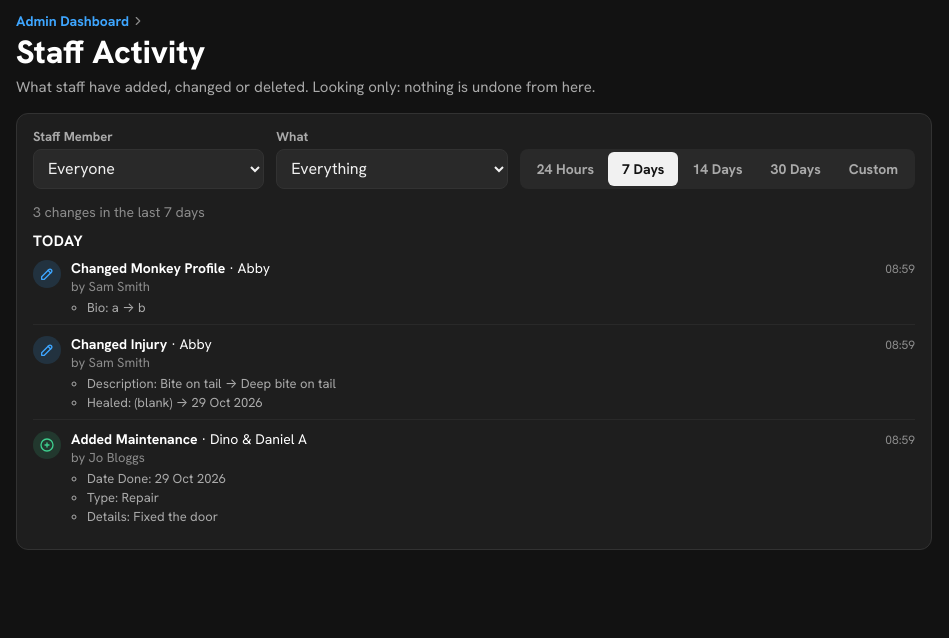
Scenario: Custom: From and To dates (the whole of each day); From after To asks again
Expected: the text "3 changes in the last 7 days" is shown, [33,203,205,221]
Click the button "Custom".
click(873, 169)  # box [835,152,912,186]
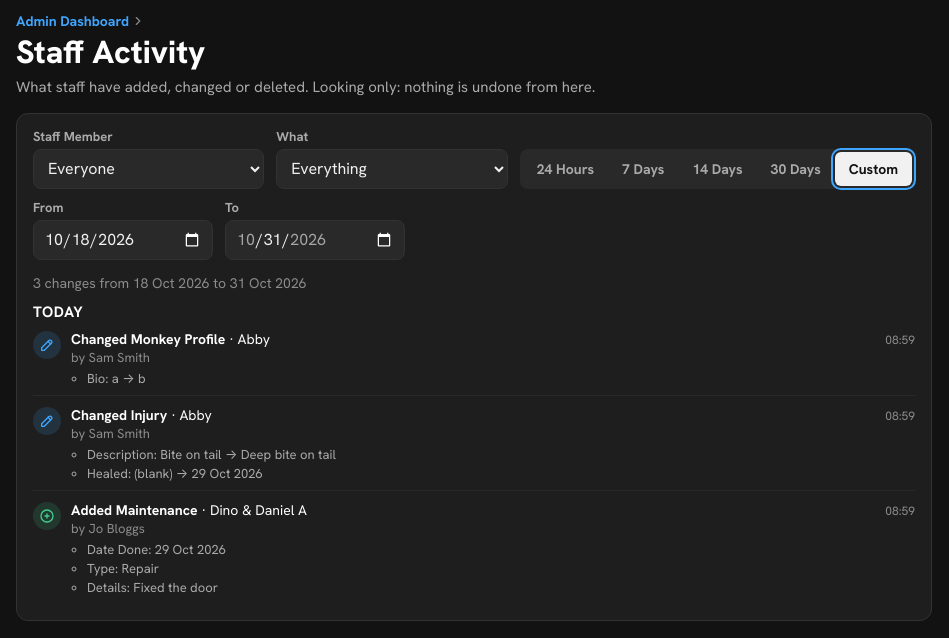
Type "2026-10-20" into the date field labelled "From".
click(123, 240); type("2026-10-20")  # box [33,220,213,260]
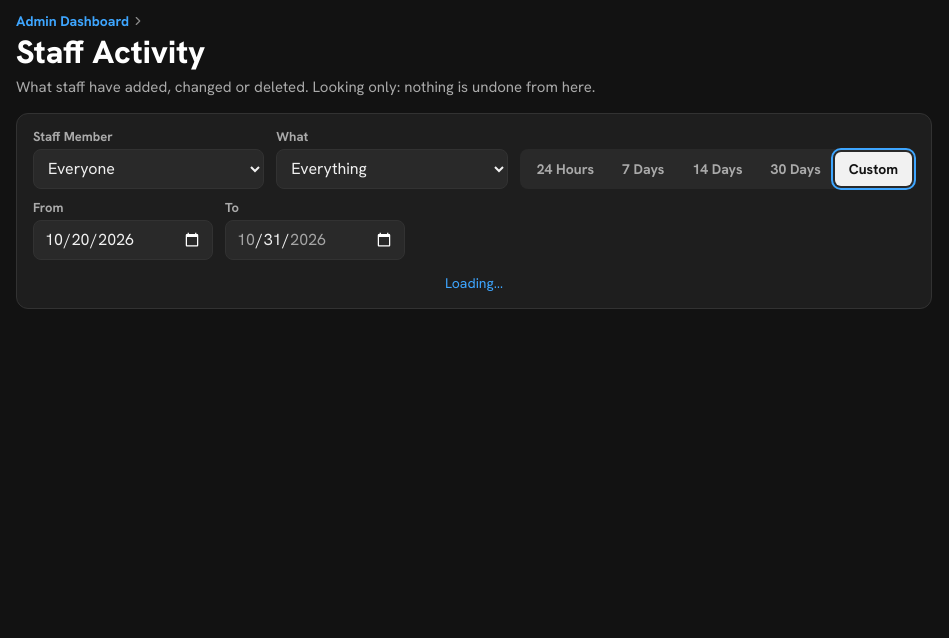
Type "2026-10-22" into the date field labelled "To".
click(315, 240); type("2026-10-22")  # box [225,220,405,260]
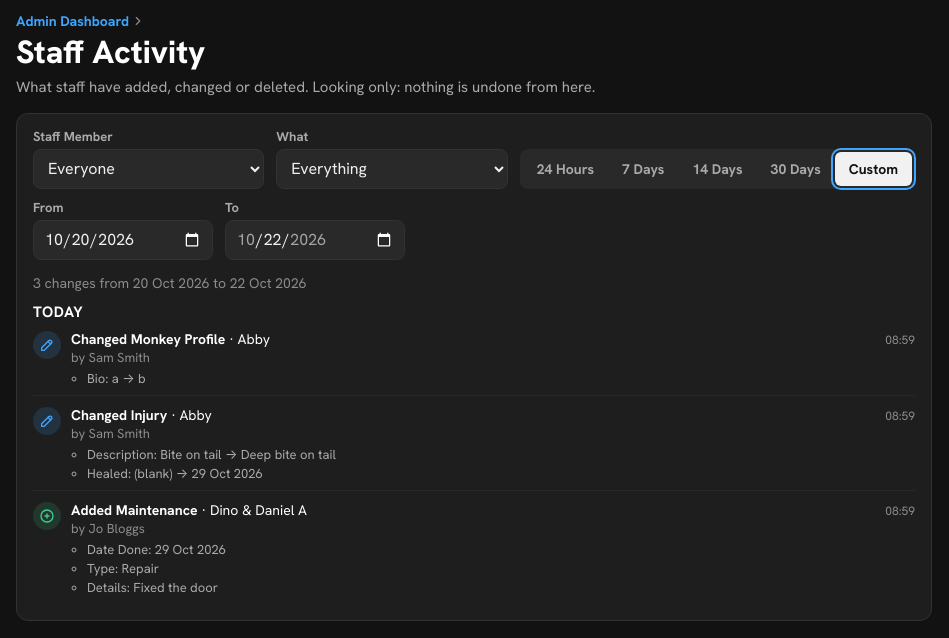
Expected: the text "3 changes from 20 Oct 2026 to 22 Oct 2026" is shown, [33,274,307,292]
Type "2026-10-20" into the date field labelled "To".
click(315, 240); type("2026-10-20")  # box [225,220,405,260]
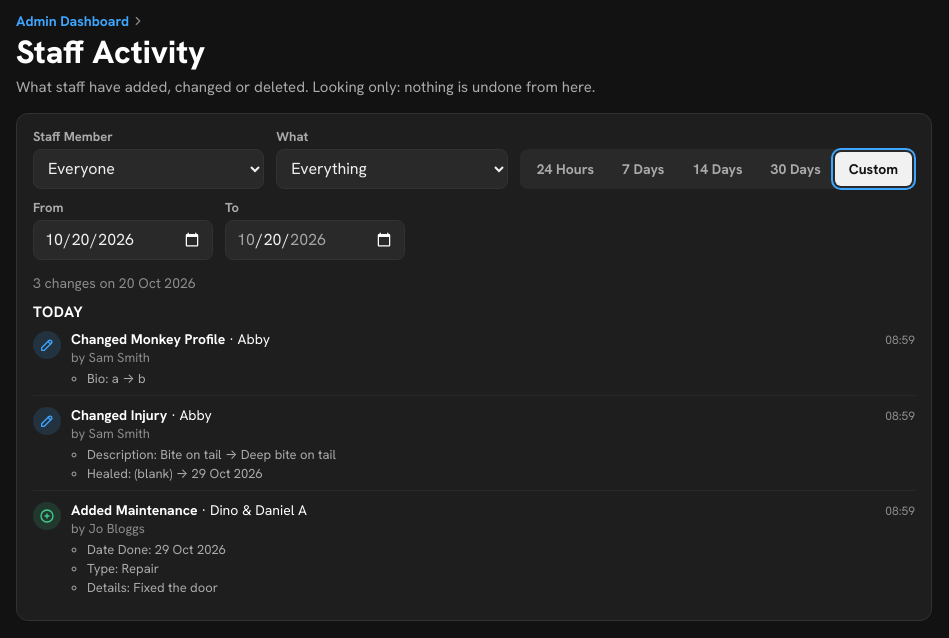
Expected: the text "3 changes on 20 Oct 2026" is shown, [33,274,196,292]
Type "2026-10-25" into the date field labelled "From".
click(123, 240); type("2026-10-25")  # box [33,220,213,260]
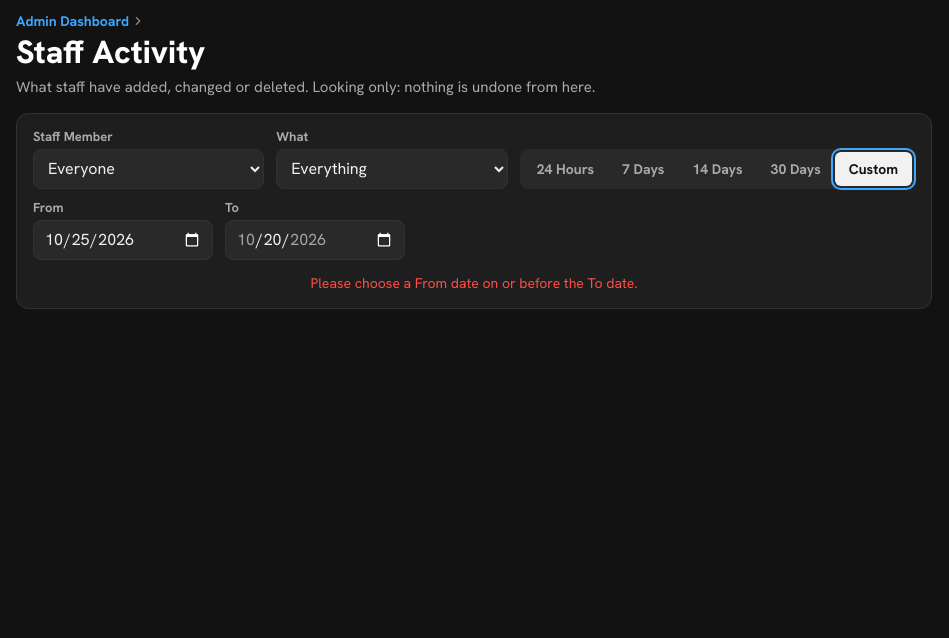
Expected: the message reads "Please choose a From date on or before the To date.", [310,274,638,292]
